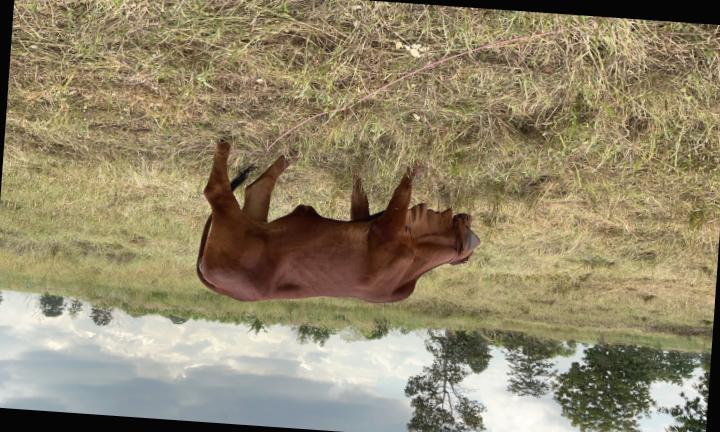Brahman: (197, 142, 480, 302)
